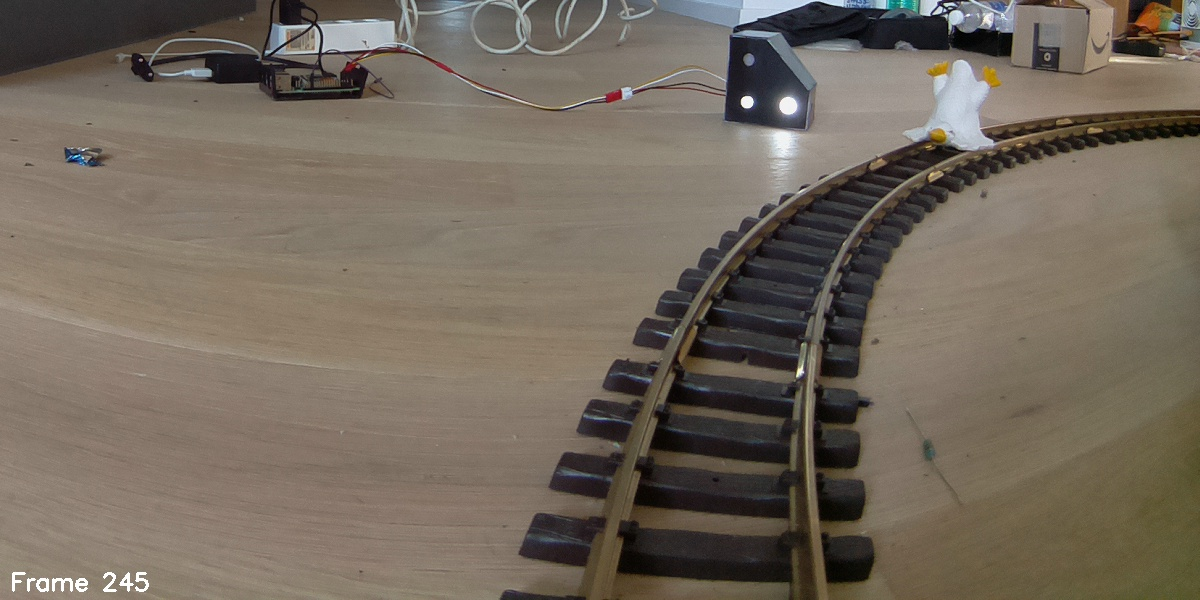Ente: (904, 56, 1002, 157)
Halt: (727, 30, 817, 129)
